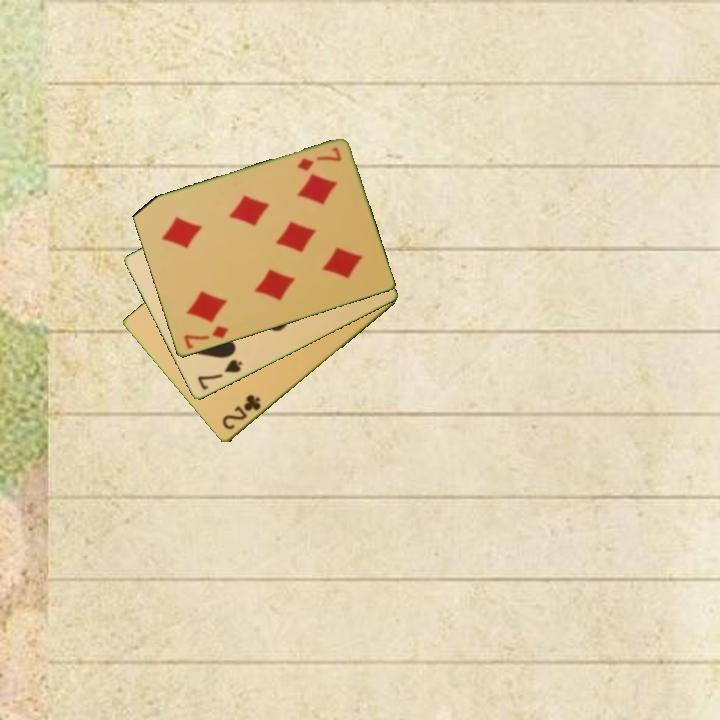2c: (219, 391, 264, 433)
7d: (180, 323, 231, 353), (293, 144, 344, 174)
7s: (194, 356, 245, 393)
